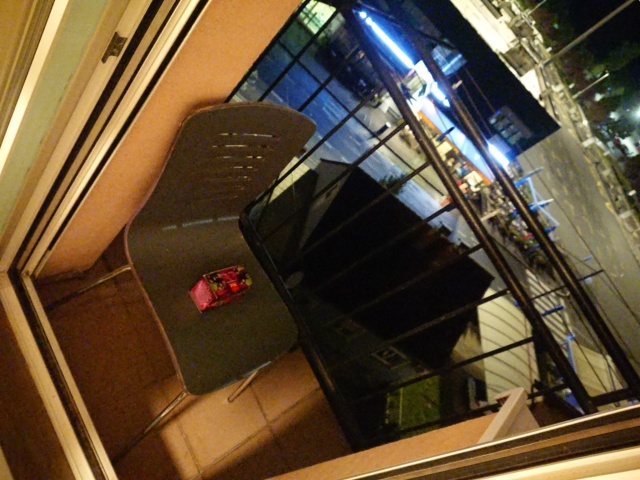Franck Black Currant Tea 60g: (186, 261, 254, 316)
